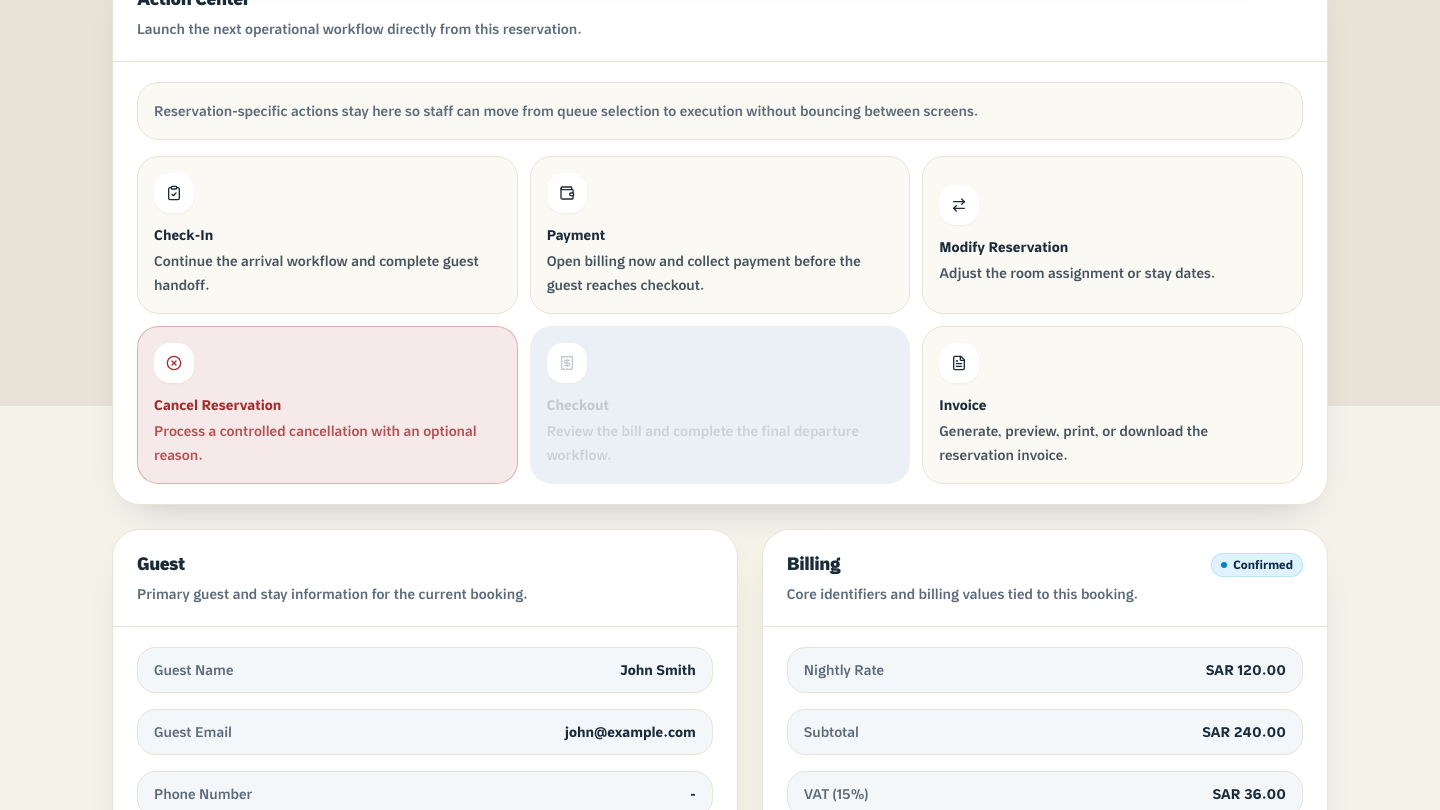
Scenario: ReservationDetails › routes /invoice-preview through explicit confirmation filters
(page scrolled)
Click the button "Invoice" at (959, 363), box [922, 326, 1303, 484]
(page scrolled)
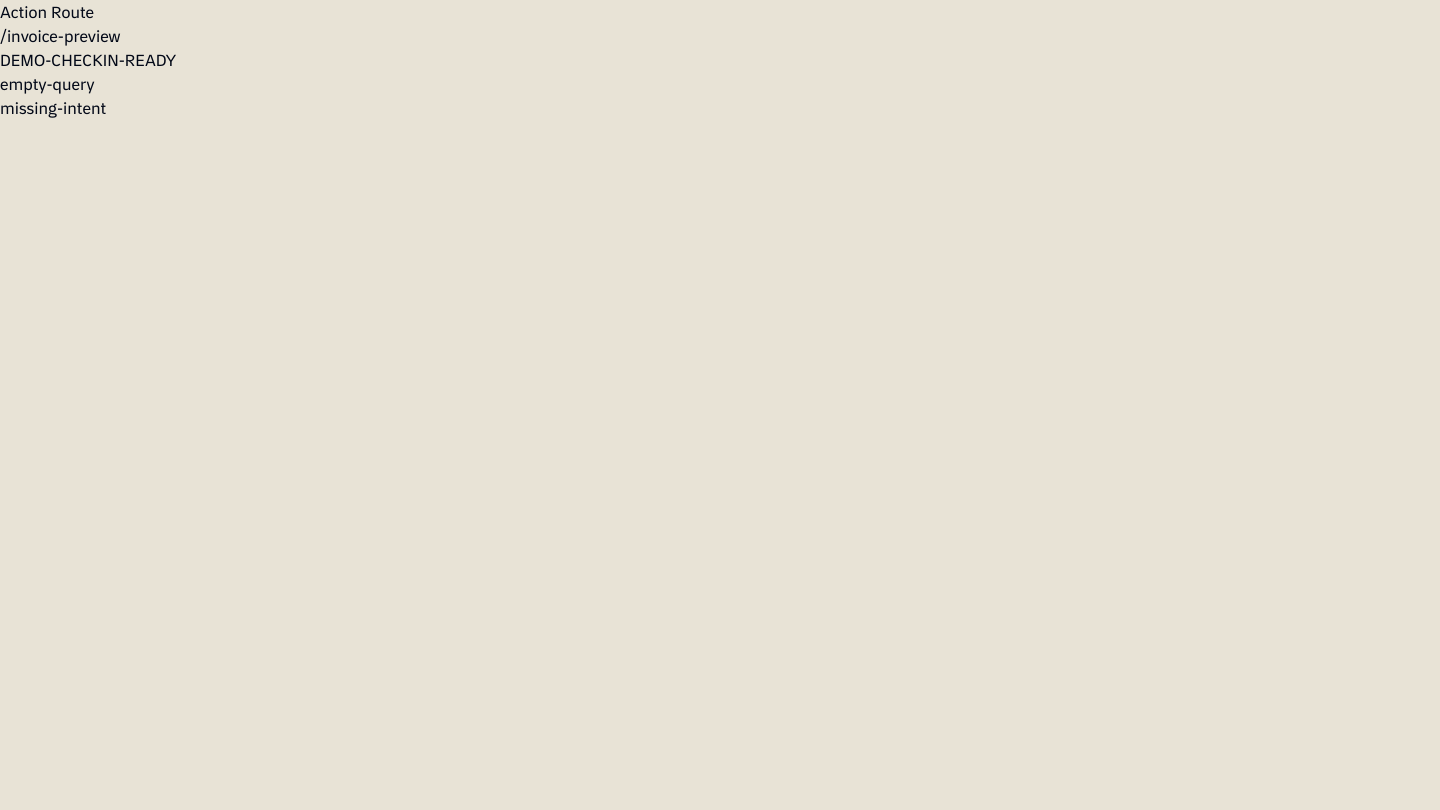
Check: the text "Action Route" is shown, box [0, 2, 94, 22]
Check: the text "/invoice-preview" is shown, box [0, 26, 120, 46]
Check: the text "empty-query" is shown, box [0, 74, 94, 94]
